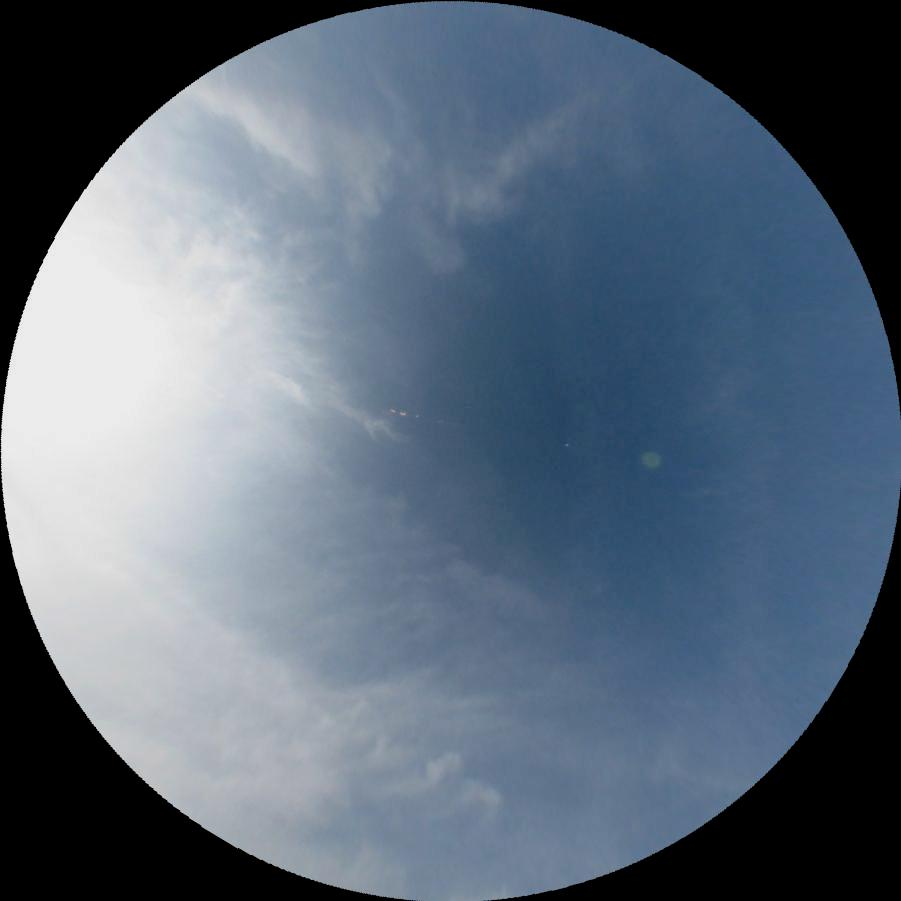contrail young: (219, 64, 225, 111)
sun: (0, 236, 203, 536)
